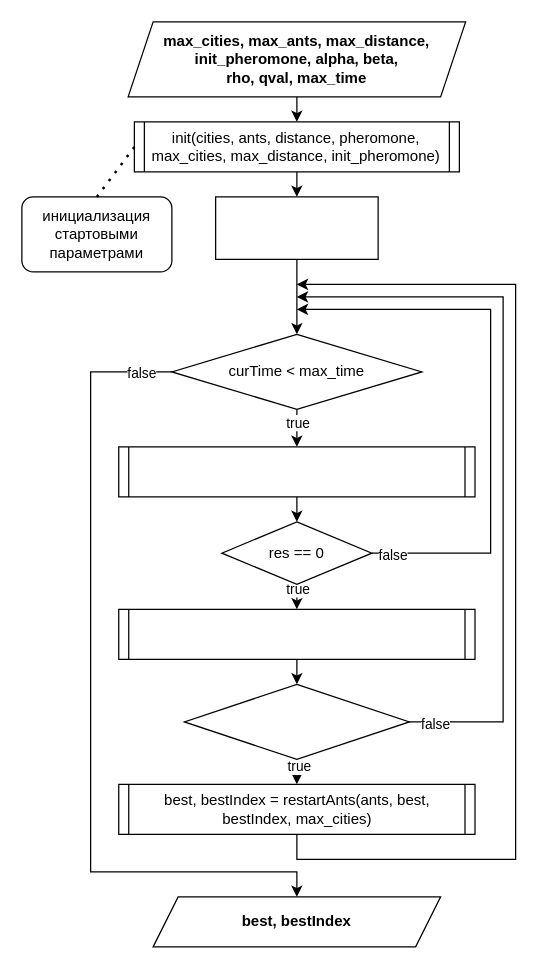
Some shapes in this 548 by 969 pixel diagram are drawn without their labels. Each missing label, with the centre of its shape:
"best = inf bestIndex = 0 curTime = 0" goes at [296,227].
"curTime != max_time" goes at [296,721].
"res = simulateAnts(ants, pheromone, distance, alpha, beta, max_citiies)" goes at [296,471].
"updateTrails(ants, pheromone, distance, rho, qval, max_cities)" goes at [296,633].
